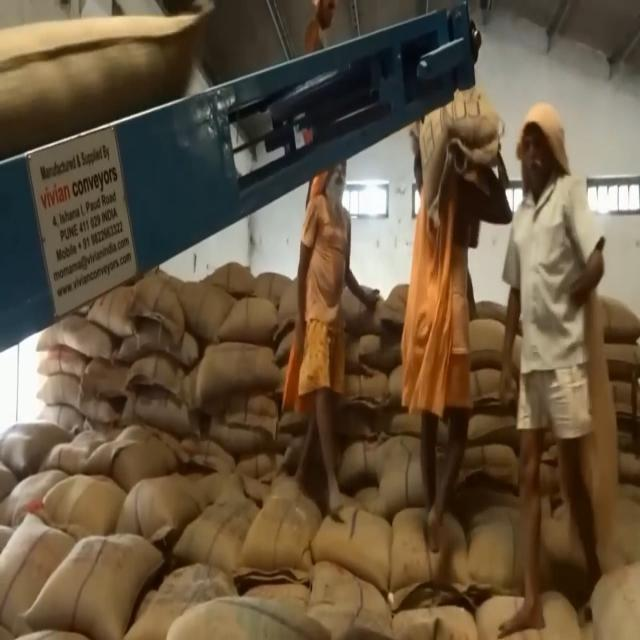gunny_bag: (0, 8, 220, 148)
